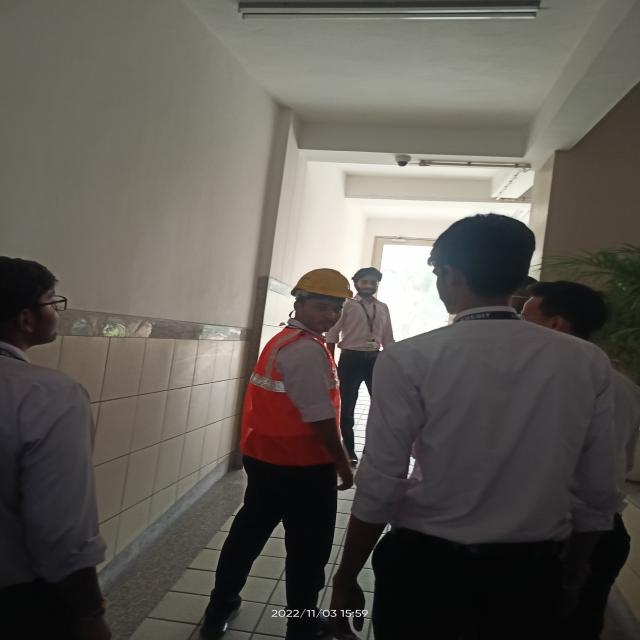safe: (196, 267, 355, 640)
unsafe: (337, 209, 619, 640), (0, 252, 128, 639), (334, 264, 404, 492)
